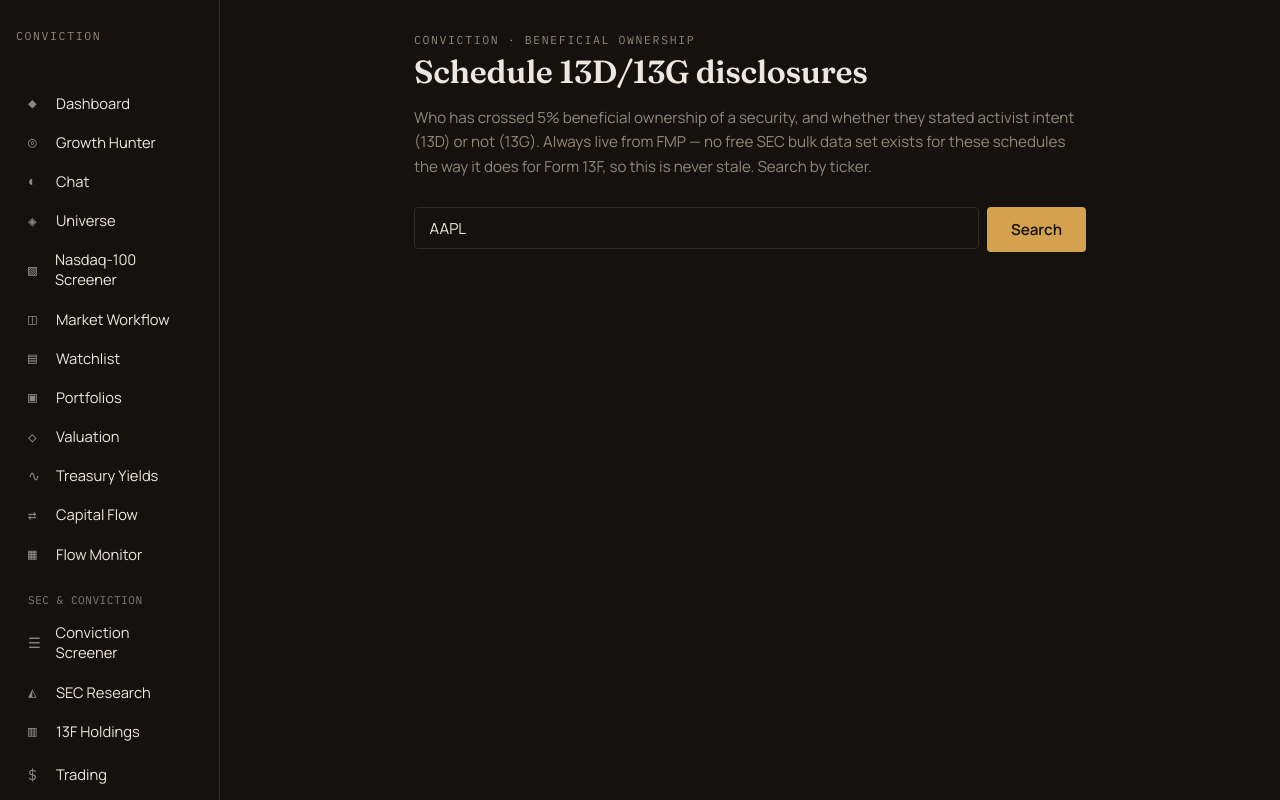
Test: Beneficial Ownership page › shows a real, honest empty state when no disclosures are found
This screenshot has width=1280, height=800.
Replace the text in the field with placeholder "e.g. AAPL, ETWO, DIS" with "ZZZZ" at (696, 228), box [414,207,979,249]
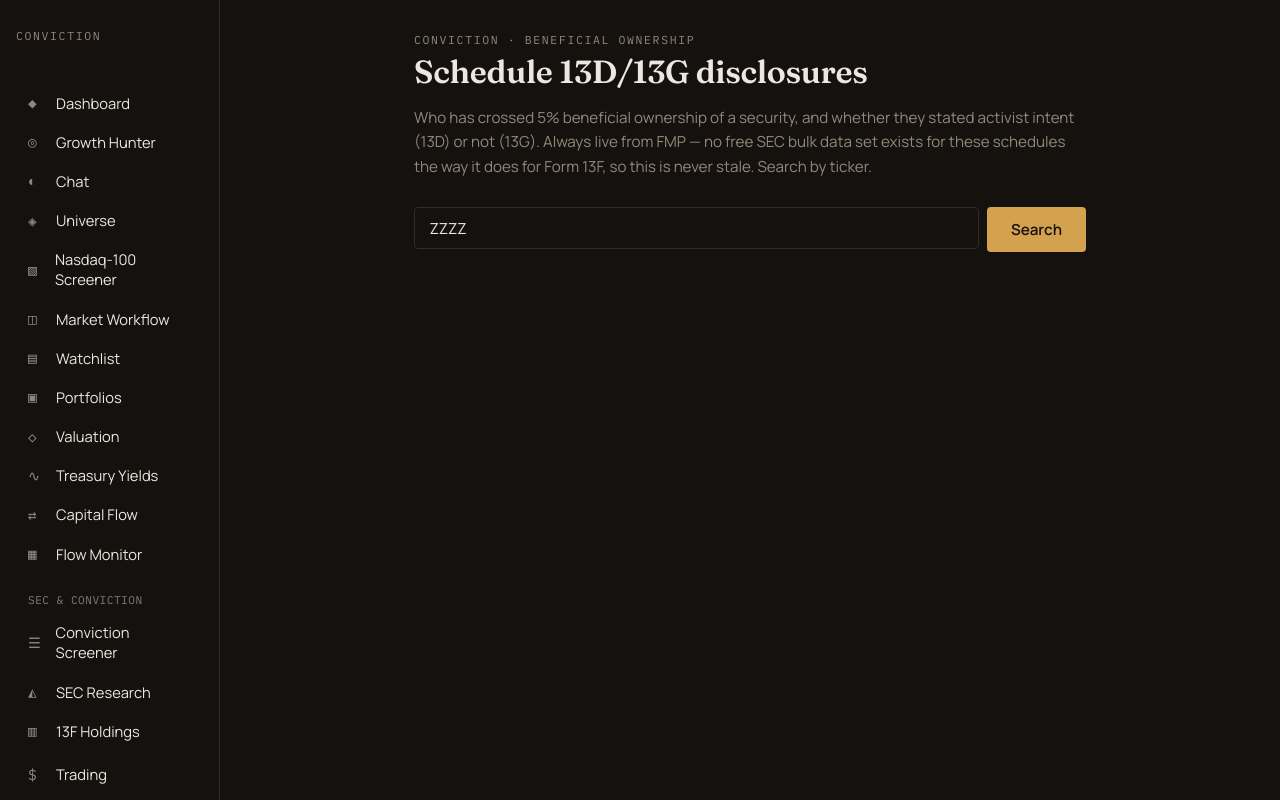
Click the button "Search".
click(1036, 229)  # box [987,207,1086,252]
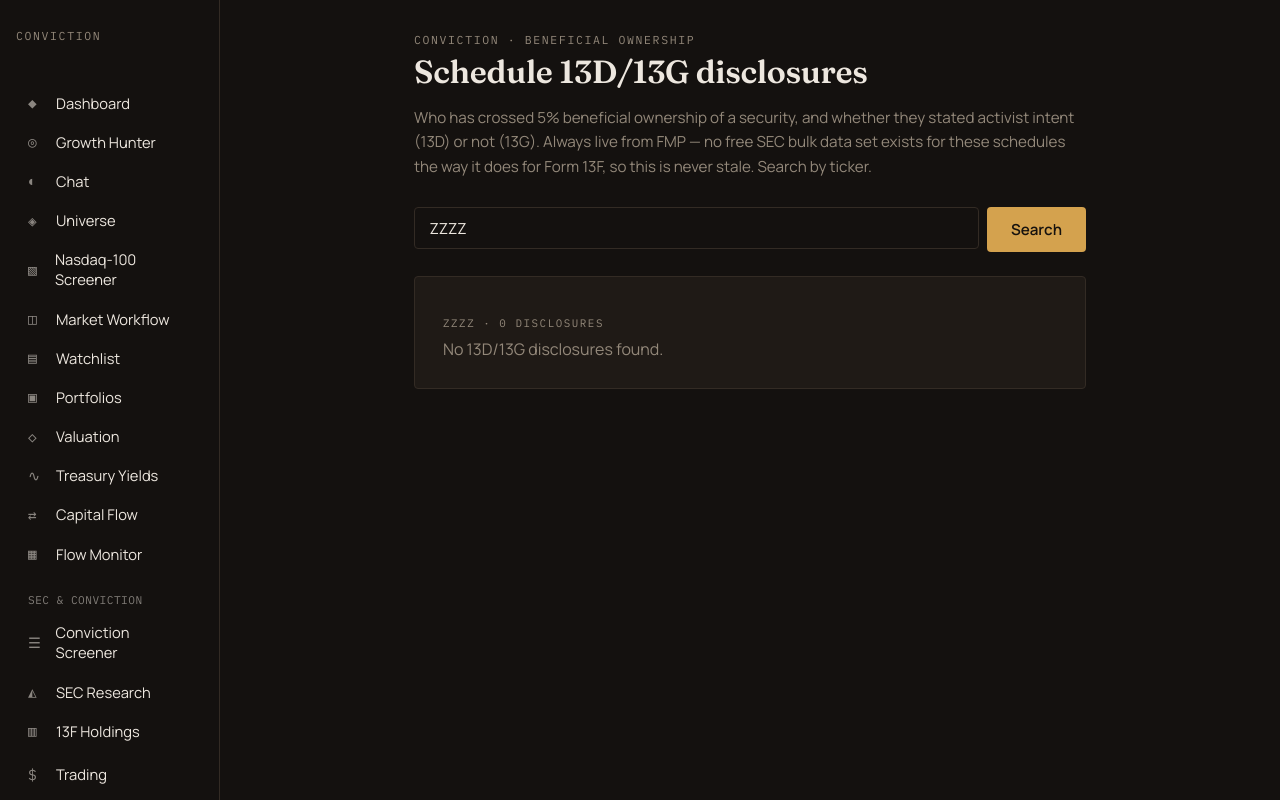
Expected: the text "No 13D/13G disclosures found." is shown, [443,338,663,360]
